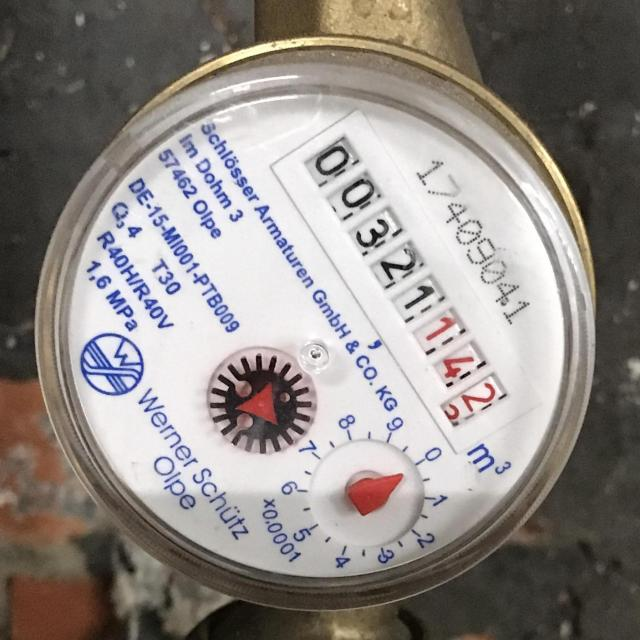gaz_meter: (54, 89, 576, 583)
indication: (284, 124, 507, 429)
